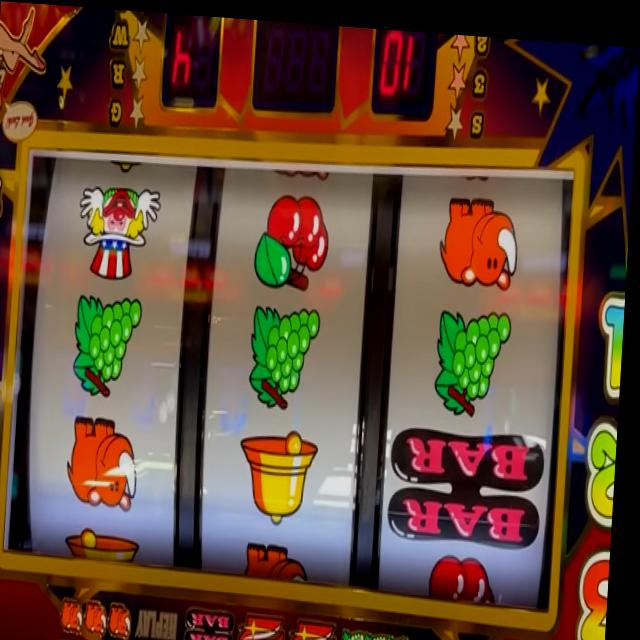bar: (389, 421, 553, 546), (191, 604, 241, 640)
bell: (240, 418, 324, 523), (69, 523, 147, 563)
cherry: (254, 187, 334, 287), (431, 544, 503, 601), (484, 637, 511, 640)
clown: (78, 181, 164, 282)
display: (8, 140, 579, 608)
elephant: (438, 188, 522, 284), (70, 414, 147, 512), (248, 533, 314, 576), (89, 596, 116, 634), (67, 594, 91, 631), (116, 599, 138, 637)
grape: (437, 296, 516, 412), (250, 298, 323, 412), (75, 285, 144, 397), (348, 619, 371, 640), (390, 625, 418, 640), (371, 624, 393, 640)
z: (245, 605, 289, 640), (296, 611, 344, 640)
